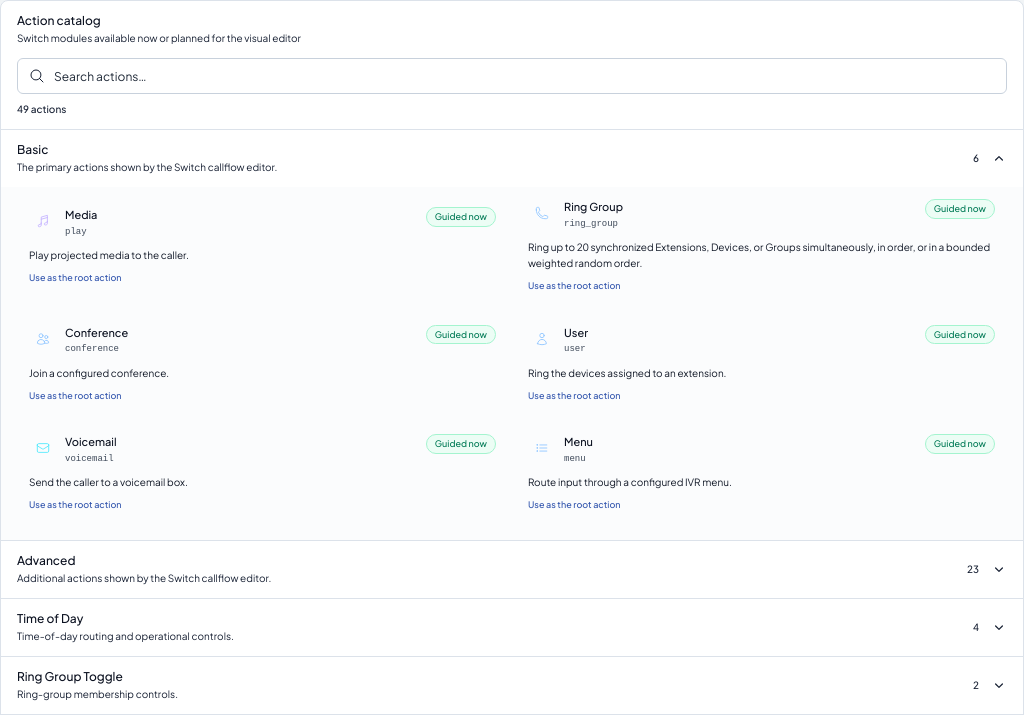
Test: CallflowActionPalette › allows installed action variants when their typed module is valid at the root
The image size is (1024, 715).
In the search field with placeholder "Search actions…": (512, 76) x1=17 y1=58 x2=1007 y2=94, type "Enable call forwarding"
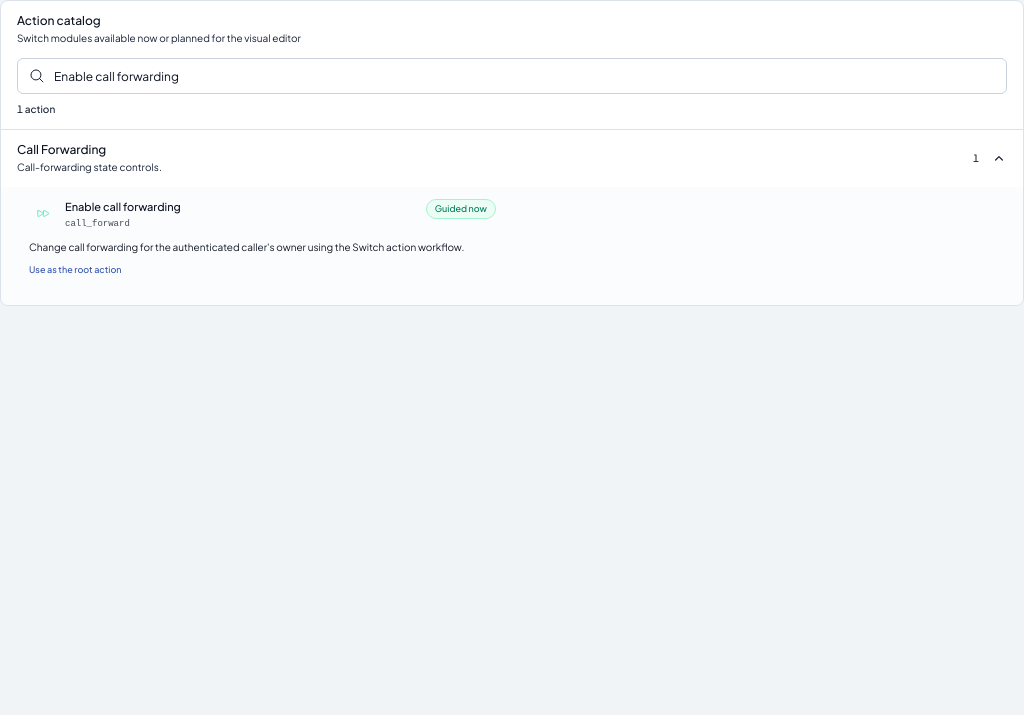
Check: the button with aria-label "Use Enable call forwarding as root action" is enabled, box x1=17 y1=187 x2=508 y2=288
